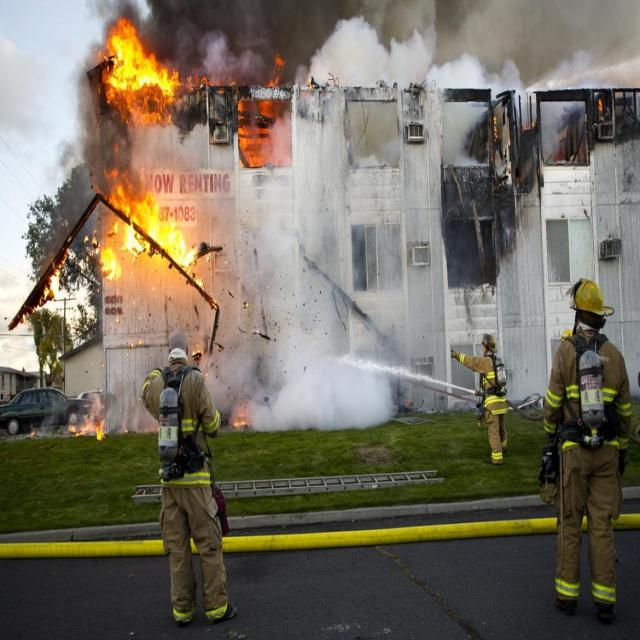Fire: (94, 12, 304, 297)
